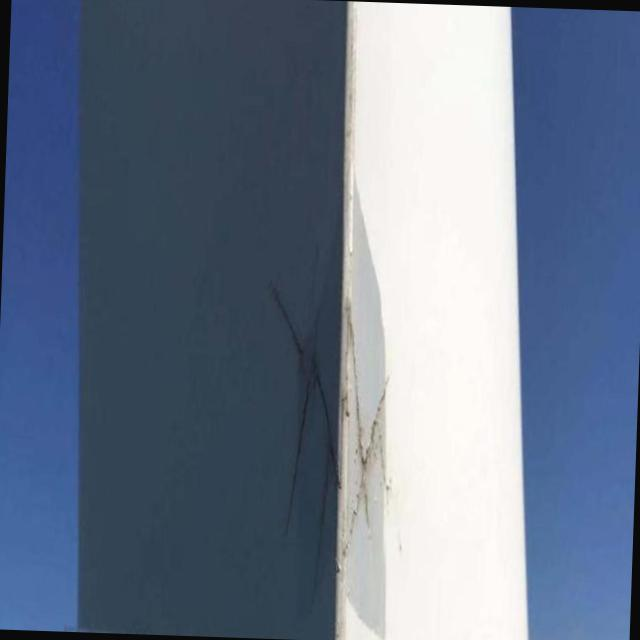crack: (254, 288, 393, 574)
